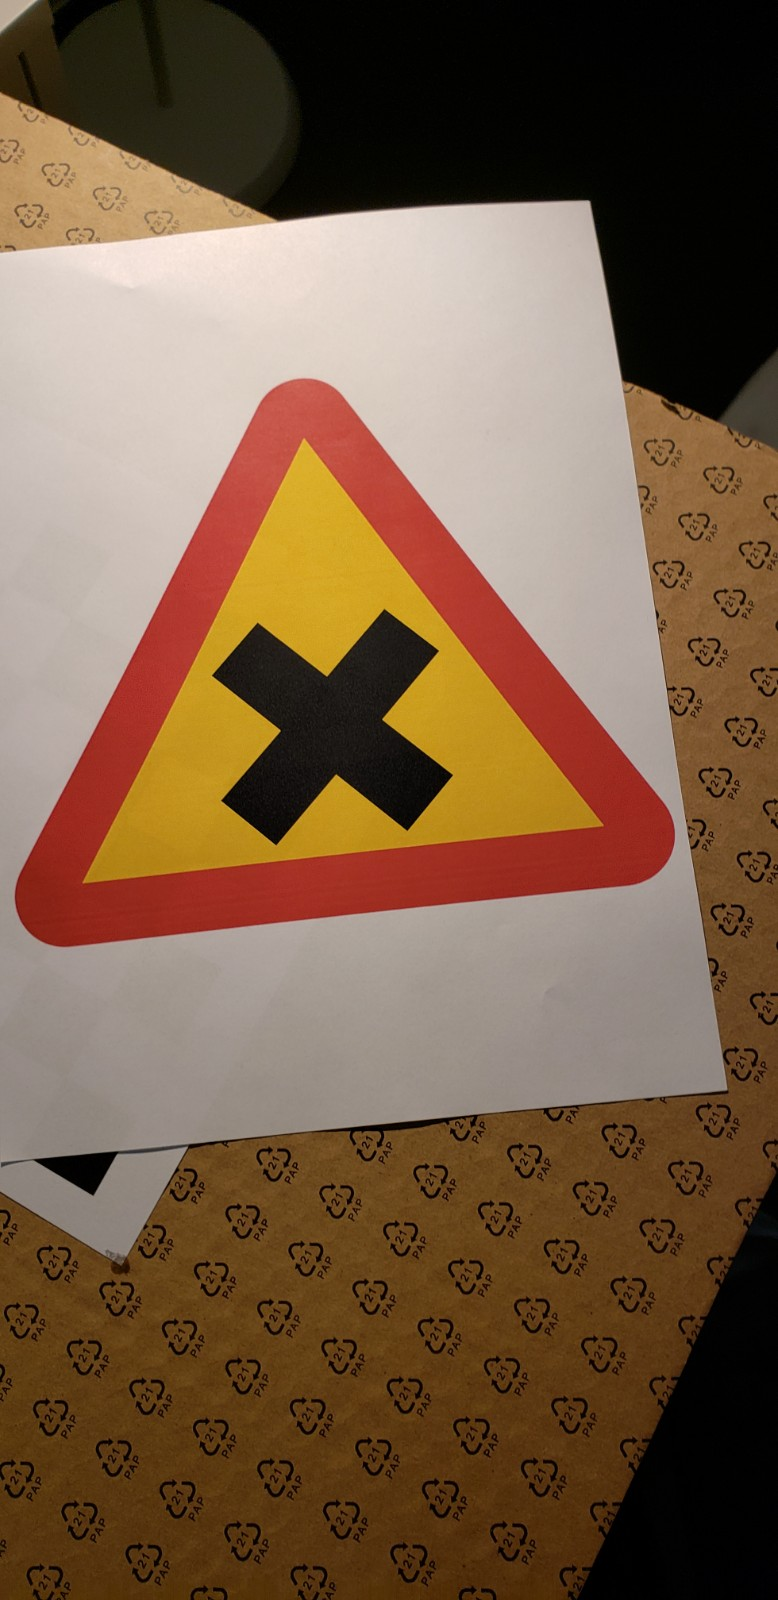junction: (22, 360, 680, 1004)
